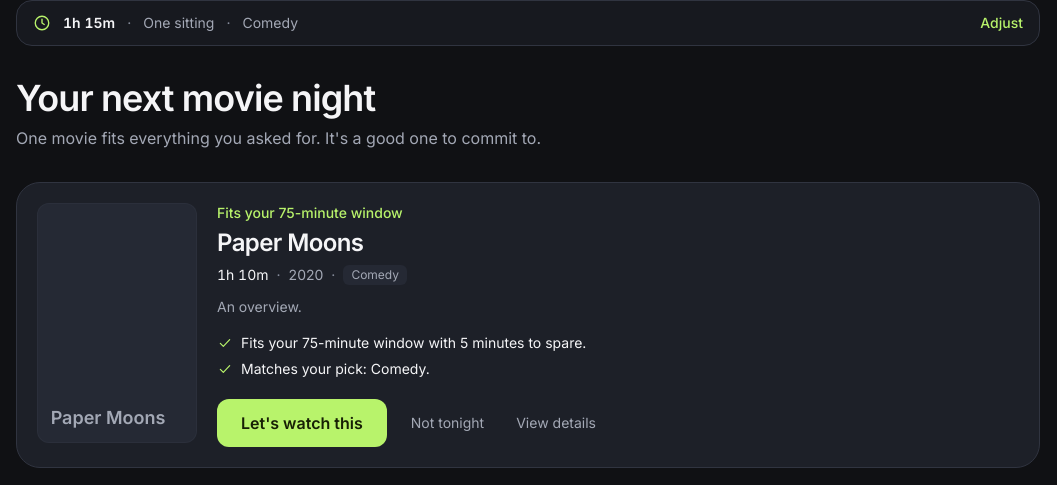
Test: selects a movie and offers to start watching
Click the button "Let's watch this": (302, 423) [217,399,387,447]
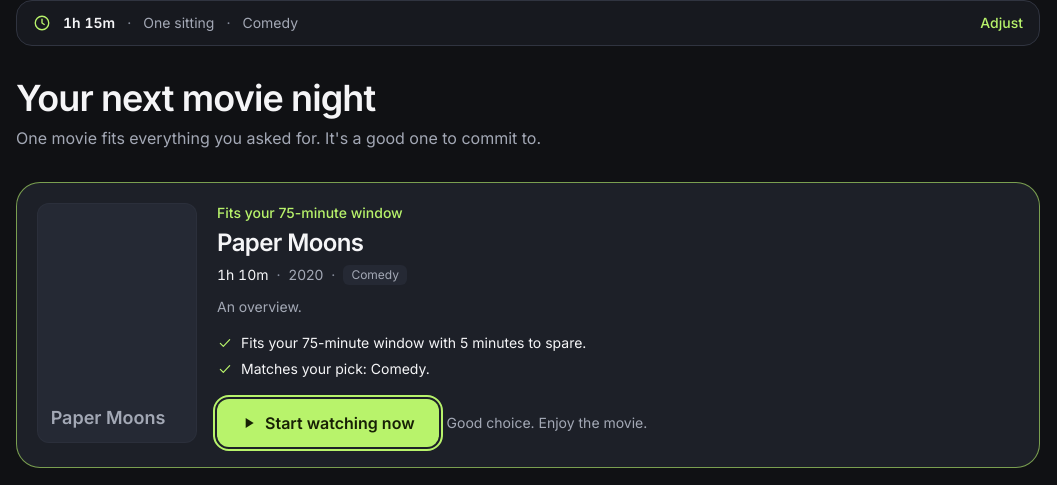
Expected: the button "Start watching now" is shown, [217,399,439,447]
